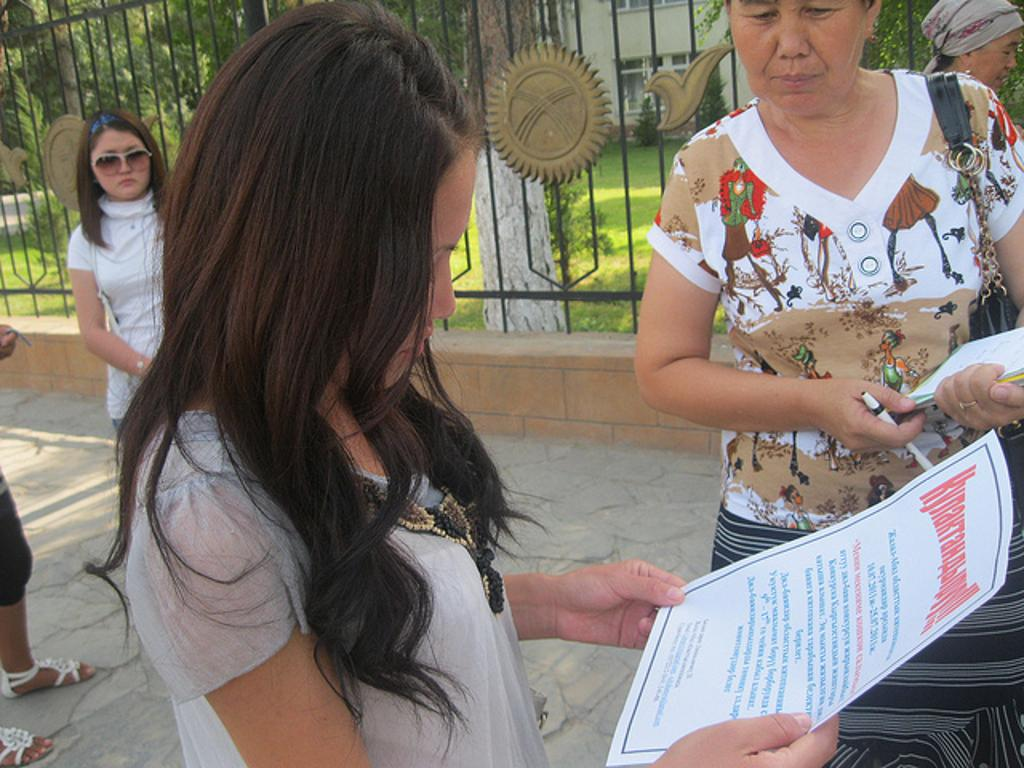face: (320, 139, 475, 389), (729, 0, 866, 116), (90, 131, 150, 199), (971, 21, 1023, 91)
